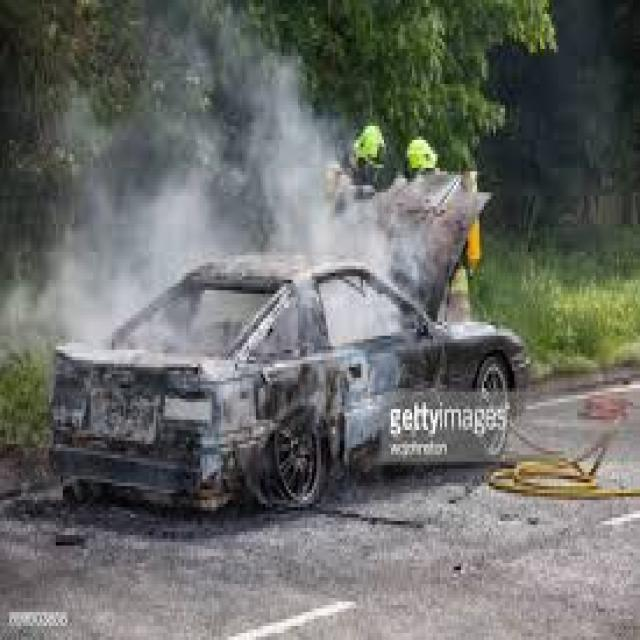Smoke: (0, 0, 391, 398)
